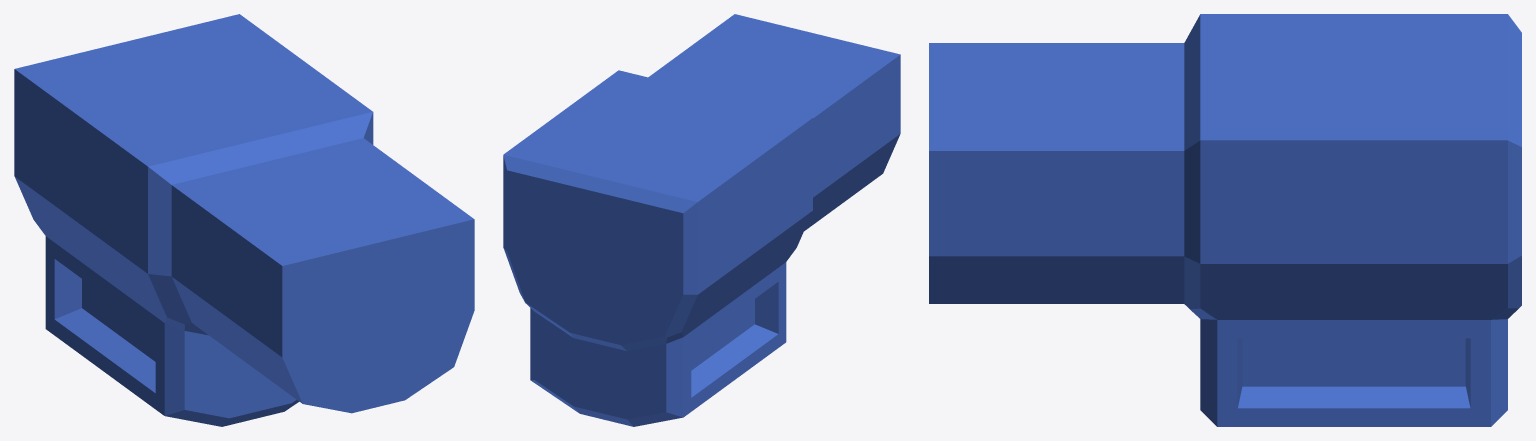
File: Personal_Vehicle_04_Central_Hub_Blue.fbx
The picture shows the model from 3 angles, left to right: view 1: azimuth 30°, elevation 25°; view 2: azimuth 150°, elevation 25°; view 3: azimuth 270°, elevation 25°; orthographic projection. The views are drawn at different scales.
Visible parts, largest first — view 1: Personal_Vehicle_04_Central_Hub_Blue; view 2: Personal_Vehicle_04_Central_Hub_Blue; view 3: Personal_Vehicle_04_Central_Hub_Blue.
Boxes of the visible parts, box(x1,y1,x2,y2) form: Personal_Vehicle_04_Central_Hub_Blue: box(14, 14, 474, 426); Personal_Vehicle_04_Central_Hub_Blue: box(503, 14, 900, 426); Personal_Vehicle_04_Central_Hub_Blue: box(929, 14, 1521, 426).
Size of the model in its own units: 45.36 by 54.97 by 89.88.
1 material, 1 textured.
